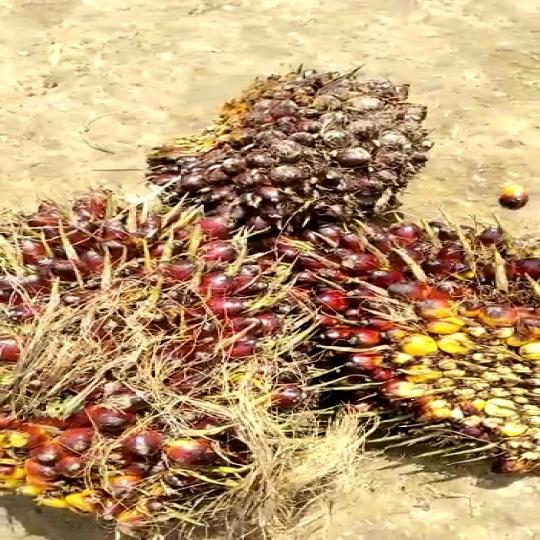kurang masak: (0, 186, 331, 516), (270, 202, 540, 484), (148, 58, 438, 224)
